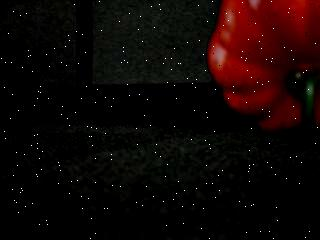Pumpkin: (204, 0, 320, 150)
